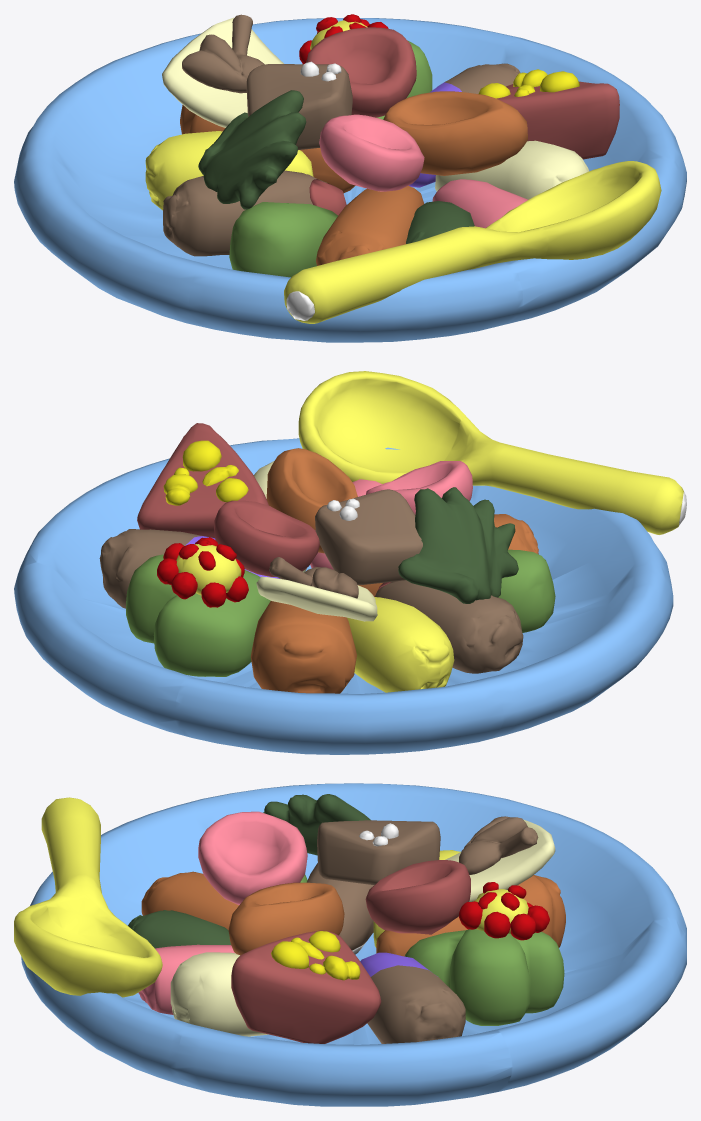
Rendered from ToyFoodPlate3dModel.fbx.
3 renders of one model, top to bottom at view 1: azimuth 30°, elevation 25°; view 2: azimuth 150°, elevation 25°; view 3: azimuth 270°, elevation 25°, orthographic. The views are drawn at different scales.
Parts seen in each view (by area): view 1: M_ToyFoodPlate3dModel, S_ToyFoodPlate3dModel, D_ToyFoodPlate3dModel_4, D_ToyFoodPlate3dModel_1; view 2: M_ToyFoodPlate3dModel, S_ToyFoodPlate3dModel, D_ToyFoodPlate3dModel_1, D_ToyFoodPlate3dModel_2, D_ToyFoodPlate3dModel_5; view 3: M_ToyFoodPlate3dModel, S_ToyFoodPlate3dModel, D_ToyFoodPlate3dModel_1, D_ToyFoodPlate3dModel_2, D_ToyFoodPlate3dModel_9, D_ToyFoodPlate3dModel_8, D_ToyFoodPlate3dModel_6, D_ToyFoodPlate3dModel_5.
Part boxes in pixels (x1,y1,x2,y2): M_ToyFoodPlate3dModel: [15, 14, 686, 342]; S_ToyFoodPlate3dModel: [14, 18, 661, 326]; D_ToyFoodPlate3dModel_4: [286, 291, 314, 320]; D_ToyFoodPlate3dModel_1: [540, 71, 579, 92]; M_ToyFoodPlate3dModel: [14, 423, 672, 754]; S_ToyFoodPlate3dModel: [14, 371, 683, 738]; D_ToyFoodPlate3dModel_1: [182, 440, 221, 471]; D_ToyFoodPlate3dModel_2: [163, 474, 197, 505]; D_ToyFoodPlate3dModel_5: [216, 478, 248, 502]; M_ToyFoodPlate3dModel: [21, 794, 686, 1106]; S_ToyFoodPlate3dModel: [14, 783, 686, 1091]; D_ToyFoodPlate3dModel_1: [271, 941, 308, 968]; D_ToyFoodPlate3dModel_2: [323, 955, 360, 980]; D_ToyFoodPlate3dModel_9: [484, 911, 510, 938]; D_ToyFoodPlate3dModel_8: [510, 913, 535, 940]; D_ToyFoodPlate3dModel_6: [459, 901, 482, 929]; D_ToyFoodPlate3dModel_5: [308, 931, 340, 952].
Bounding box in the file's own units: 814 × 220 × 820.
